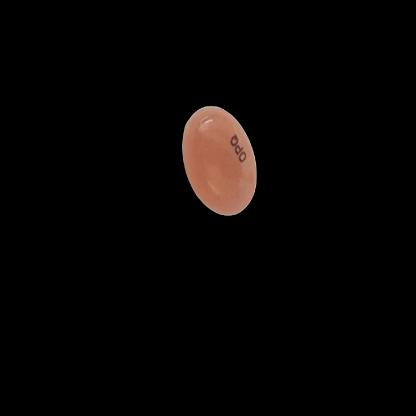opiqutan: (170, 88, 286, 238)
